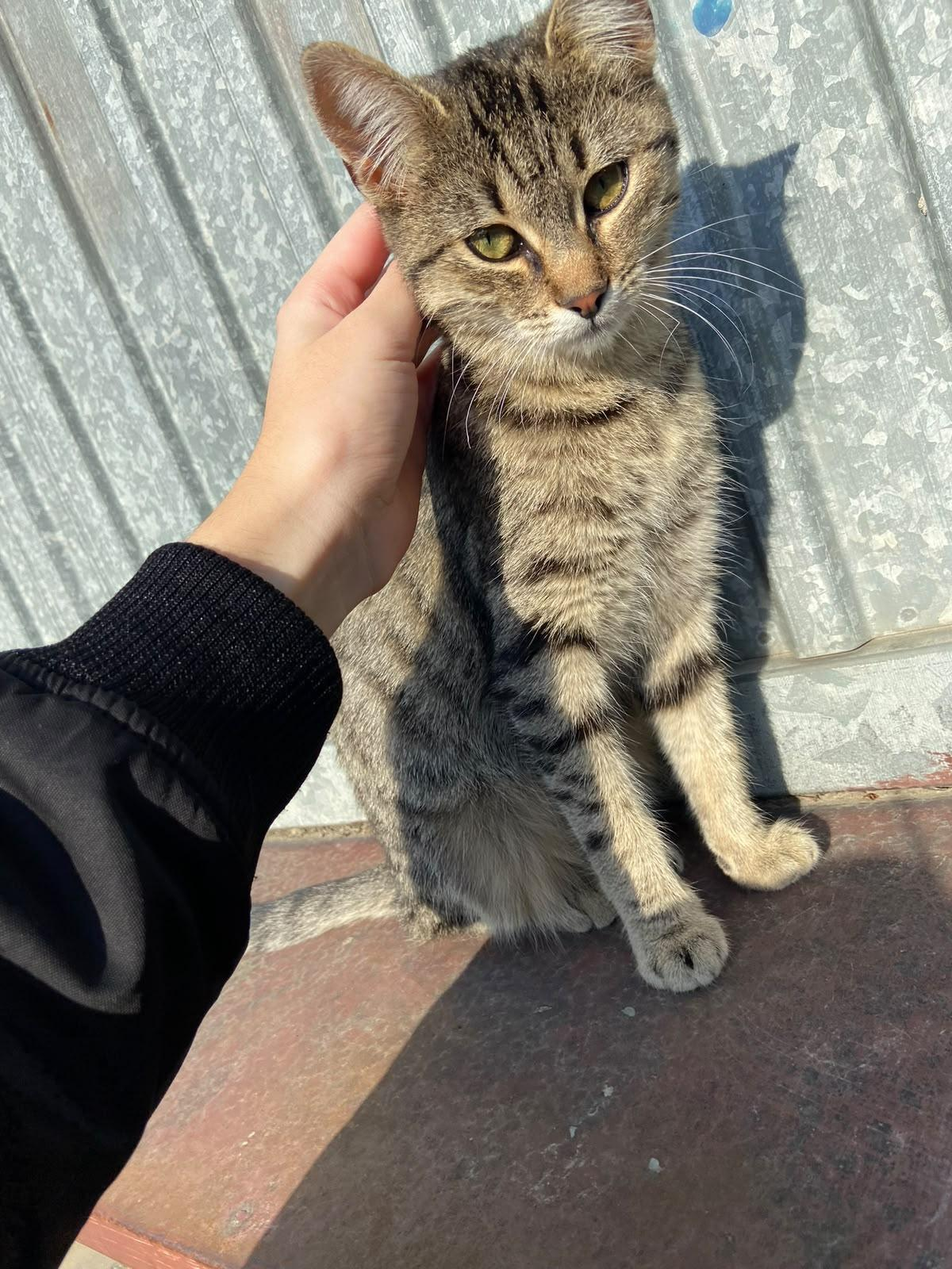macka: (292, 0, 825, 992)
